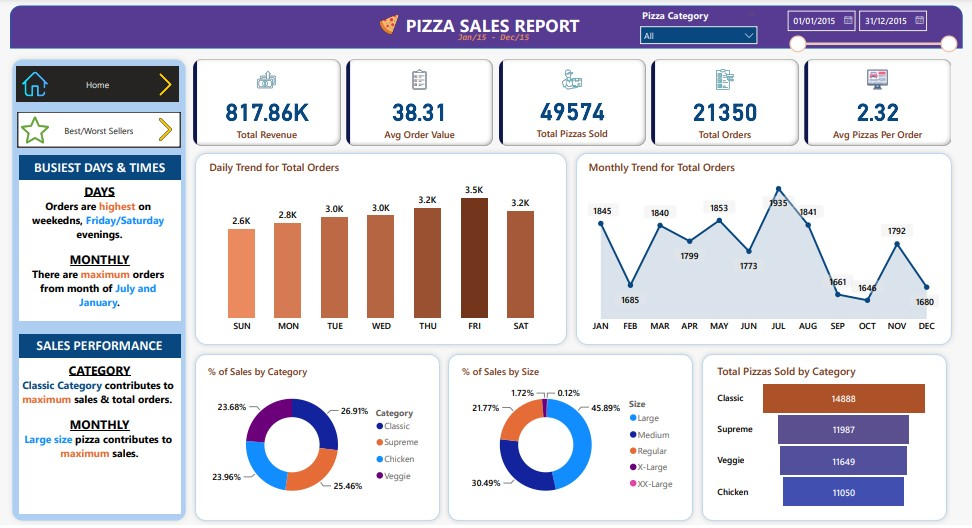

The page's visual inventory and layout, read from the dashboard file:
{"tool":"powerbi","page":{"name":"Home","canvas":[1500,820],"ordinal":0},"visuals":[{"type":"shape","box":[11.7,95,281.7,725],"z":0},{"type":"cardVisual","fields":{"Data":["pizza_sales.Total Revenue","pizza_sales.Avg Order Value","pizza_sales.Total Pizzas Sold","pizza_sales.Total Orders","pizza_sales.Avg Pizzas Per Order"]},"box":[294,98,1178,142],"z":1000},{"type":"shape","box":[16,20,1466,66],"z":2000},{"type":"textbox","box":[594,26,330,54],"z":3000},{"type":"textbox","box":[684,54,152,34],"z":4000},{"type":"image","box":[578.8,23.8,40,48.8],"z":5000},{"type":"shape","box":[294,240,586,310],"z":6000},{"type":"columnChart","title":"Daily Trend for Total Orders","fields":{"Category":["pizza_sales.Order Day"],"Y":["pizza_sales.Total Orders"]},"box":[318,258,540,274],"z":7000},{"type":"shape","box":[880,240,592,310],"z":8000},{"type":"areaChart","title":"Monthly Trend for Total Orders","fields":{"Y":["pizza_sales.Total Orders"],"Category":["pizza_sales.Order Month"]},"box":[902,258,548,274],"z":9000},{"type":"shape","box":[294,550,390,270],"z":10000},{"type":"shape","box":[684,550,390,270],"z":11000},{"type":"shape","box":[1074,550,390,270],"z":12000},{"type":"donutChart","title":"% of Sales by Category","fields":{"Category":["pizza_sales.pizza_category"],"Y":["pizza_sales.Total Revenue"]},"box":[316,572,344,228],"z":13000},{"type":"donutChart","title":"% of Sales by Size","fields":{"Y":["pizza_sales.Total Revenue"],"Category":["pizza_sales.pizza_size"]},"box":[706.7,571.7,343.3,228.3],"z":14000},{"type":"funnel","title":"Total Pizzas Sold by Category","fields":{"Y":["pizza_sales.Total Pizzas Sold"],"Category":["pizza_sales.pizza_category"]},"box":[1100,572,334,228],"z":15000},{"type":"textbox","box":[29.8,250.9,247.8,36.7],"z":16000},{"type":"textbox","box":[29.8,287.6,247.8,217.8],"z":17000},{"type":"textbox","box":[29.8,525.3,247.8,37.8],"z":18000},{"type":"textbox","box":[29.8,563.1,247.8,238.9],"z":19000},{"type":"slicer","fields":{"Values":["pizza_sales.pizza_category"]},"box":[976,20,200,66],"z":20000},{"type":"slicer","fields":{"Values":["pizza_sales.order_date"]},"box":[1200,18,282,80],"z":21000},{"type":"pageNavigator","box":[26.3,114.3,250,54],"z":22000},{"type":"pageNavigator","box":[28.3,184.3,250,54],"z":23000},{"type":"image","box":[232.9,114.7,43.6,54.5],"z":24000},{"type":"image","box":[232.9,183.8,43.6,54.5],"z":25000},{"type":"image","box":[28.3,117.4,52.7,47.3],"z":26000},{"type":"image","box":[28.3,184.7,52.7,53.6],"z":27000}]}

Visuals, with their boxes in screenshot pixels (x1, y1, x2, y2), scaled from the page's 1500x820 canvas onto the 972x528 screenshot:
shape: rect(8, 61, 190, 527)
cardVisual - pizza_sales.Total Revenue x pizza_sales.Avg Order Value: rect(191, 63, 954, 155)
shape: rect(10, 13, 960, 55)
textbox: rect(385, 17, 599, 52)
textbox: rect(443, 35, 542, 57)
image: rect(375, 15, 401, 47)
shape: rect(191, 155, 570, 354)
"Daily Trend for Total Orders" columnChart: rect(206, 166, 556, 343)
shape: rect(570, 155, 954, 354)
"Monthly Trend for Total Orders" areaChart: rect(584, 166, 940, 343)
shape: rect(191, 354, 443, 527)
shape: rect(443, 354, 696, 527)
shape: rect(696, 354, 949, 527)
"% of Sales by Category" donutChart: rect(205, 368, 428, 515)
"% of Sales by Size" donutChart: rect(458, 368, 680, 515)
"Total Pizzas Sold by Category" funnel: rect(713, 368, 929, 515)
textbox: rect(19, 162, 180, 185)
textbox: rect(19, 185, 180, 325)
textbox: rect(19, 338, 180, 363)
textbox: rect(19, 363, 180, 516)
slicer - pizza_sales.pizza_category: rect(632, 13, 762, 55)
slicer - pizza_sales.order_date: rect(778, 12, 960, 63)
pageNavigator: rect(17, 74, 179, 108)
pageNavigator: rect(18, 119, 180, 153)
image: rect(151, 74, 179, 109)
image: rect(151, 118, 179, 153)
image: rect(18, 76, 52, 106)
image: rect(18, 119, 52, 153)
